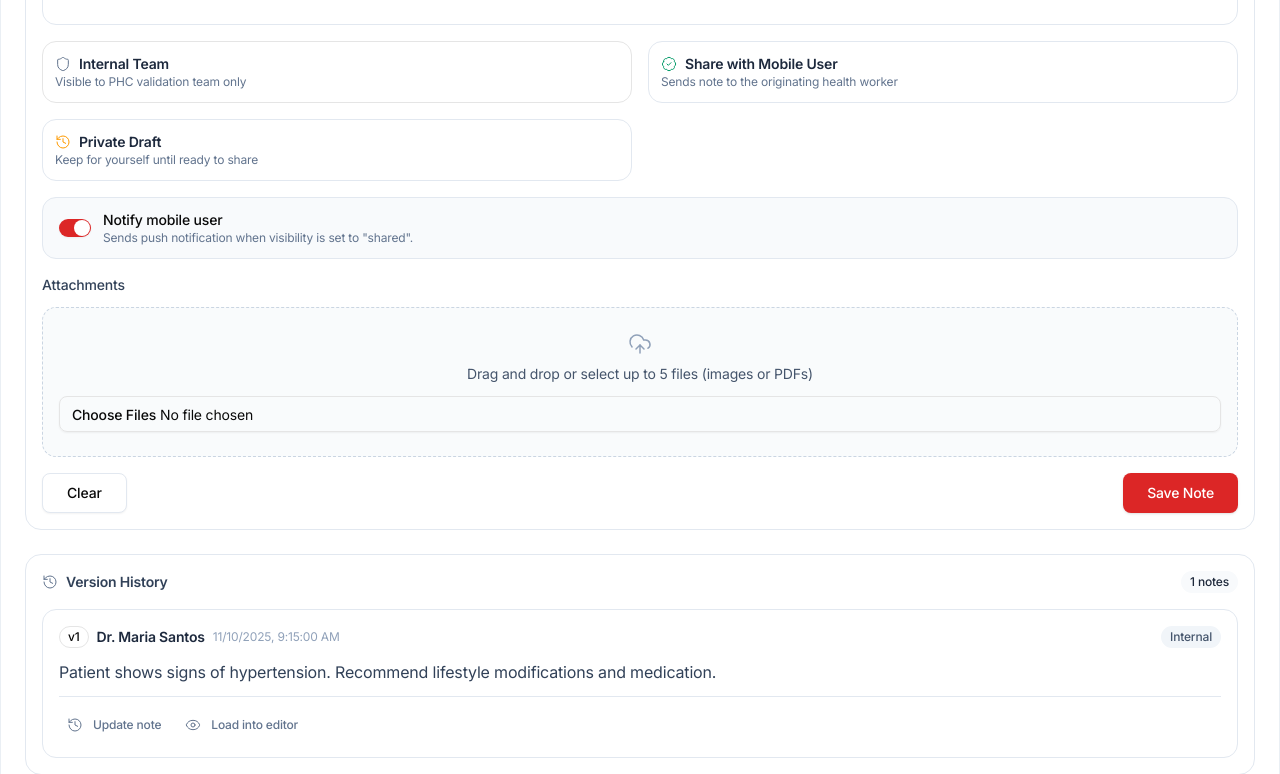
ClinicalNotesEditor › Note History › allows loading note into editor
The image size is (1280, 774).
(page scrolled)
Click the button "Load into editor" at [242, 725], box [177,709,306,741]
(page scrolled)
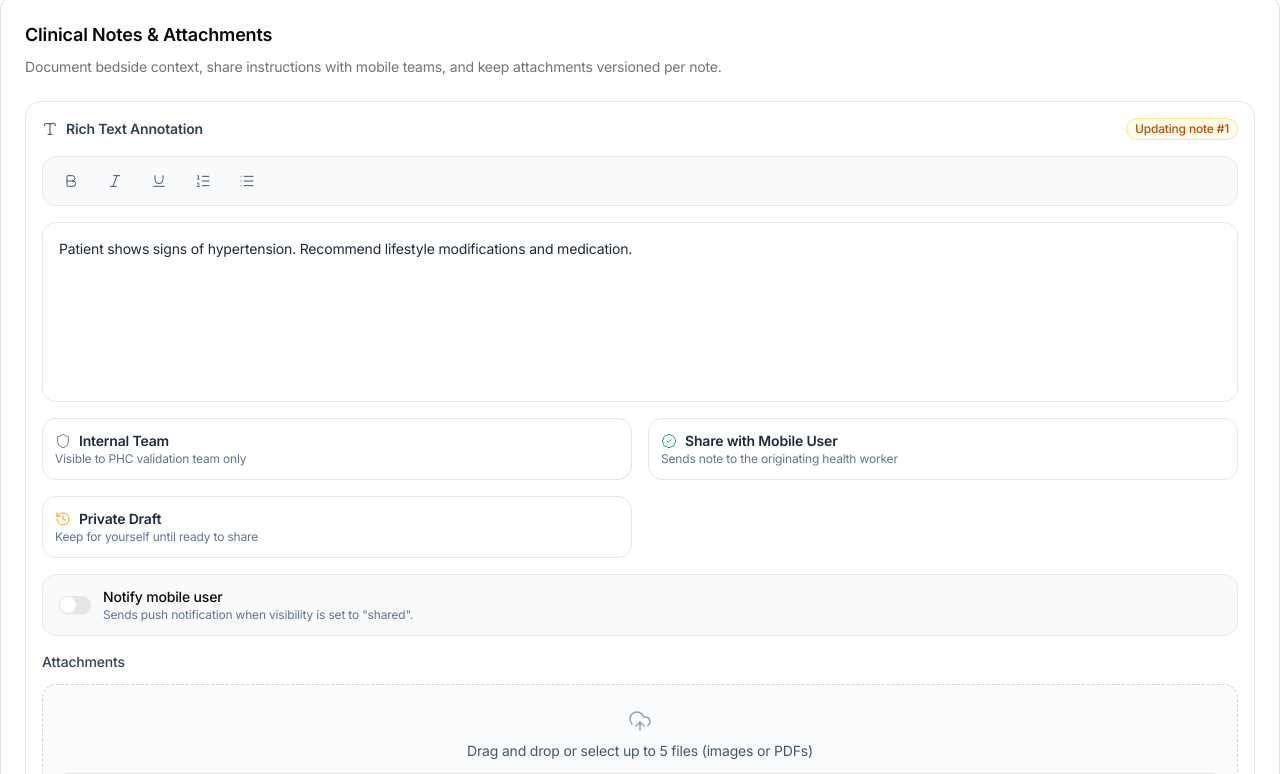
expect the text box named "Clinical notes rich text editor" shows "Patient shows signs of hypertension": met, box [42,222,1238,402]
